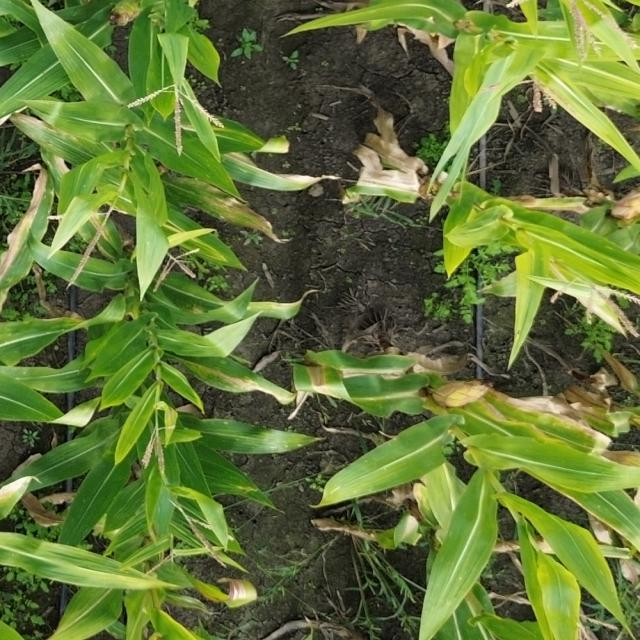northern-leaf-blight: (463, 384, 611, 469), (0, 164, 54, 295), (18, 109, 95, 164)
southern-leaf-blight: (161, 166, 294, 254), (203, 398, 319, 465), (185, 352, 290, 415)
